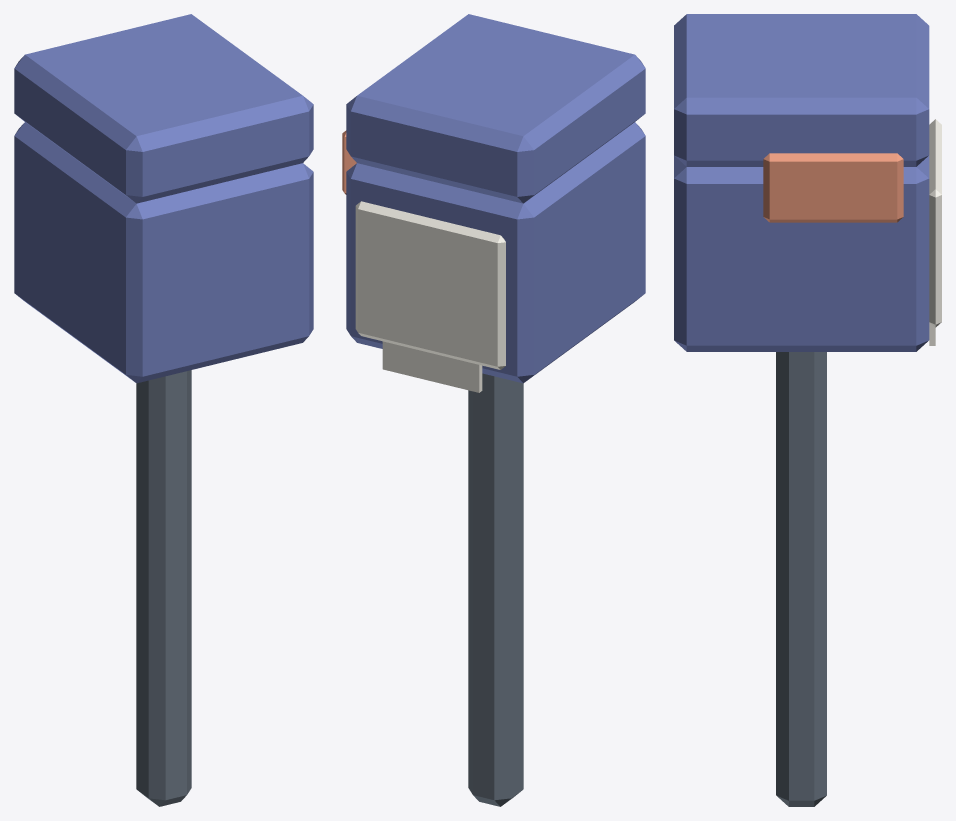
The model's file is mailbox_01.glb.
3 views of the same model, side by side, from view 1: azimuth 30°, elevation 25°; view 2: azimuth 150°, elevation 25°; view 3: azimuth 270°, elevation 25° (orthographic). The views are drawn at different scales.
Visible parts, largest first — view 1: mailbox_01; view 2: mailbox_01; view 3: mailbox_01.
Boxes of the visible parts, x1,y1,x2,y2 form: mailbox_01: (14,14,313,806); mailbox_01: (342,14,645,806); mailbox_01: (674,14,941,806).
Bounding box in the file's own units: 0.375 × 1.29 × 0.42.
